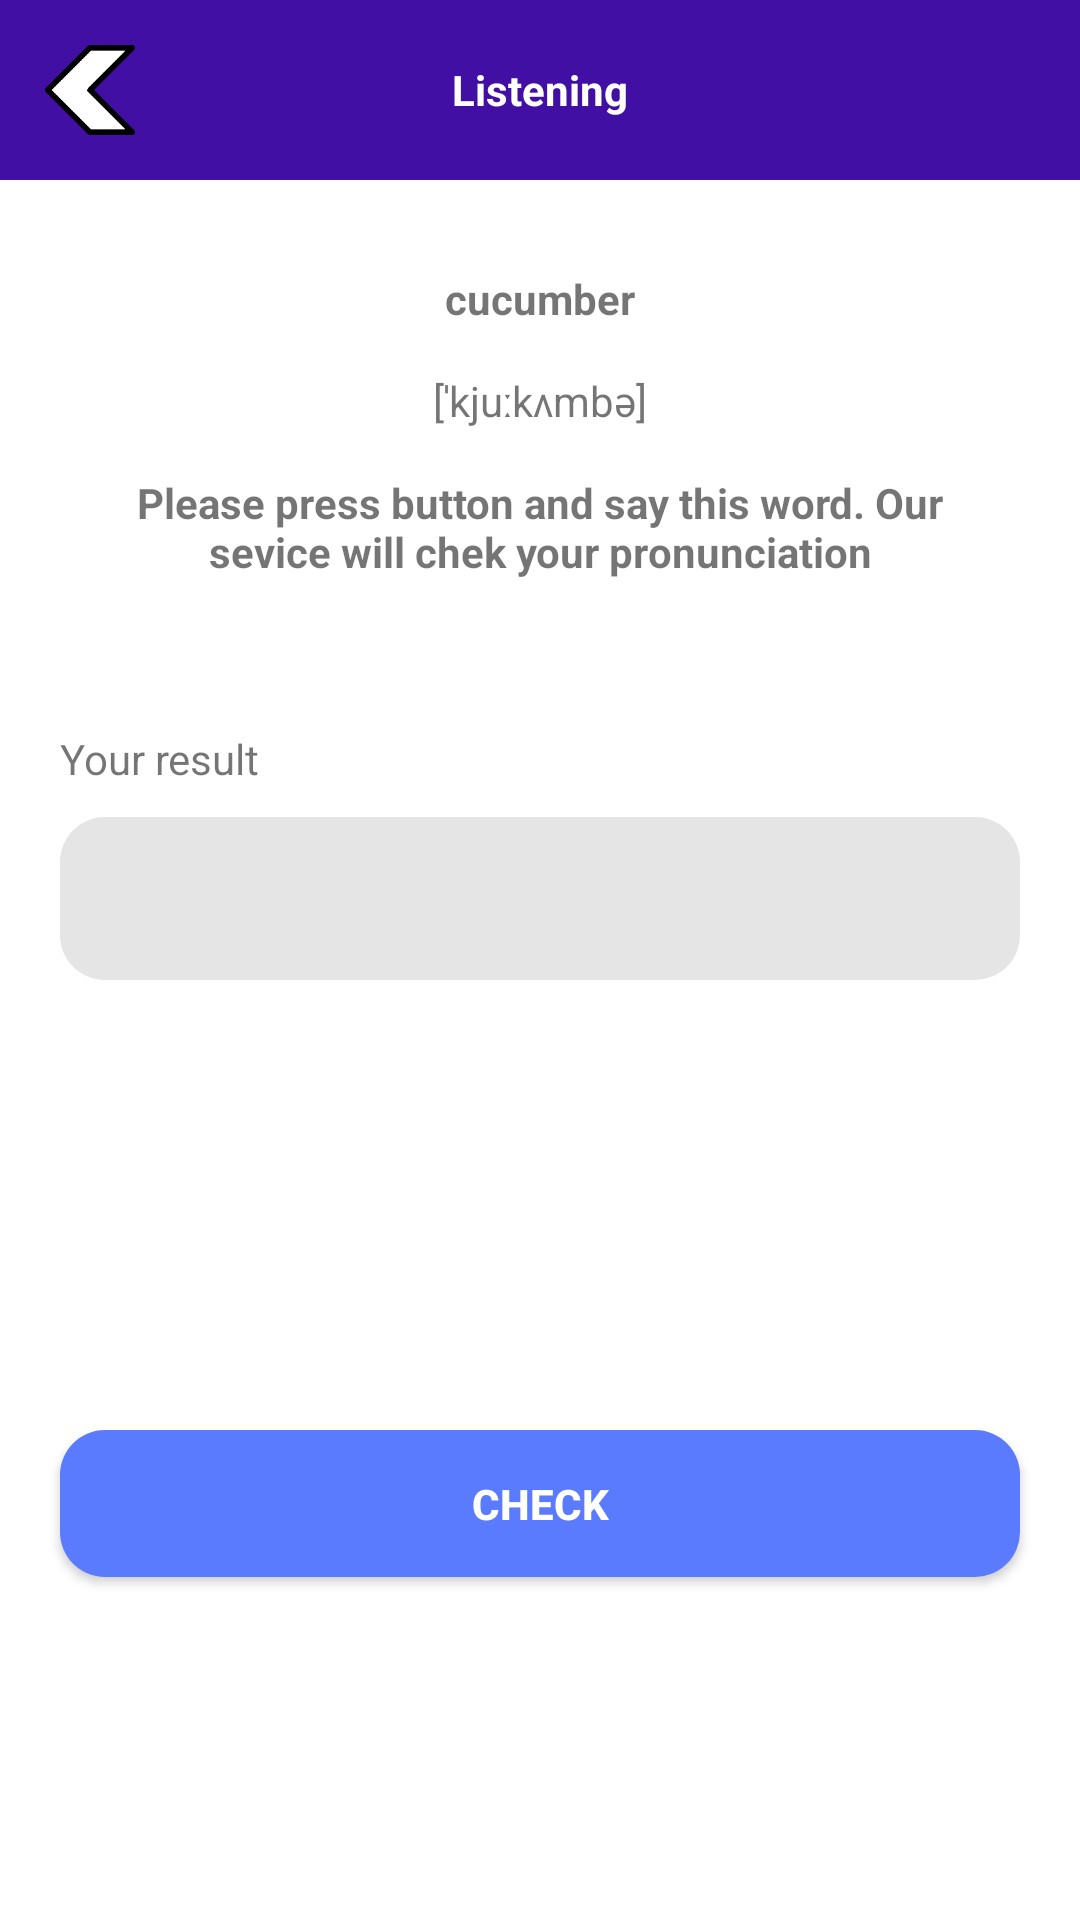

Icon click points for this 1080×1920 phone screenshot, format [x,y]:
arrow: [90,90]
